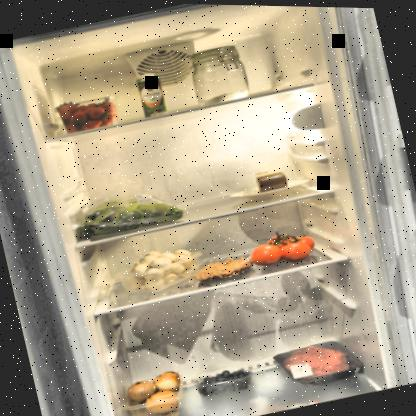blueberries: (194, 360, 262, 402)
cheese: (252, 162, 291, 196)
ground_beef: (280, 328, 364, 389)
heavy_cream: (133, 68, 170, 117)
mushrooms: (117, 237, 215, 299)
onion: (125, 367, 183, 415)
shrimp: (193, 249, 254, 286)
spinach: (70, 180, 191, 246)
strawberries: (52, 87, 122, 138)
tomato: (244, 218, 321, 272)
